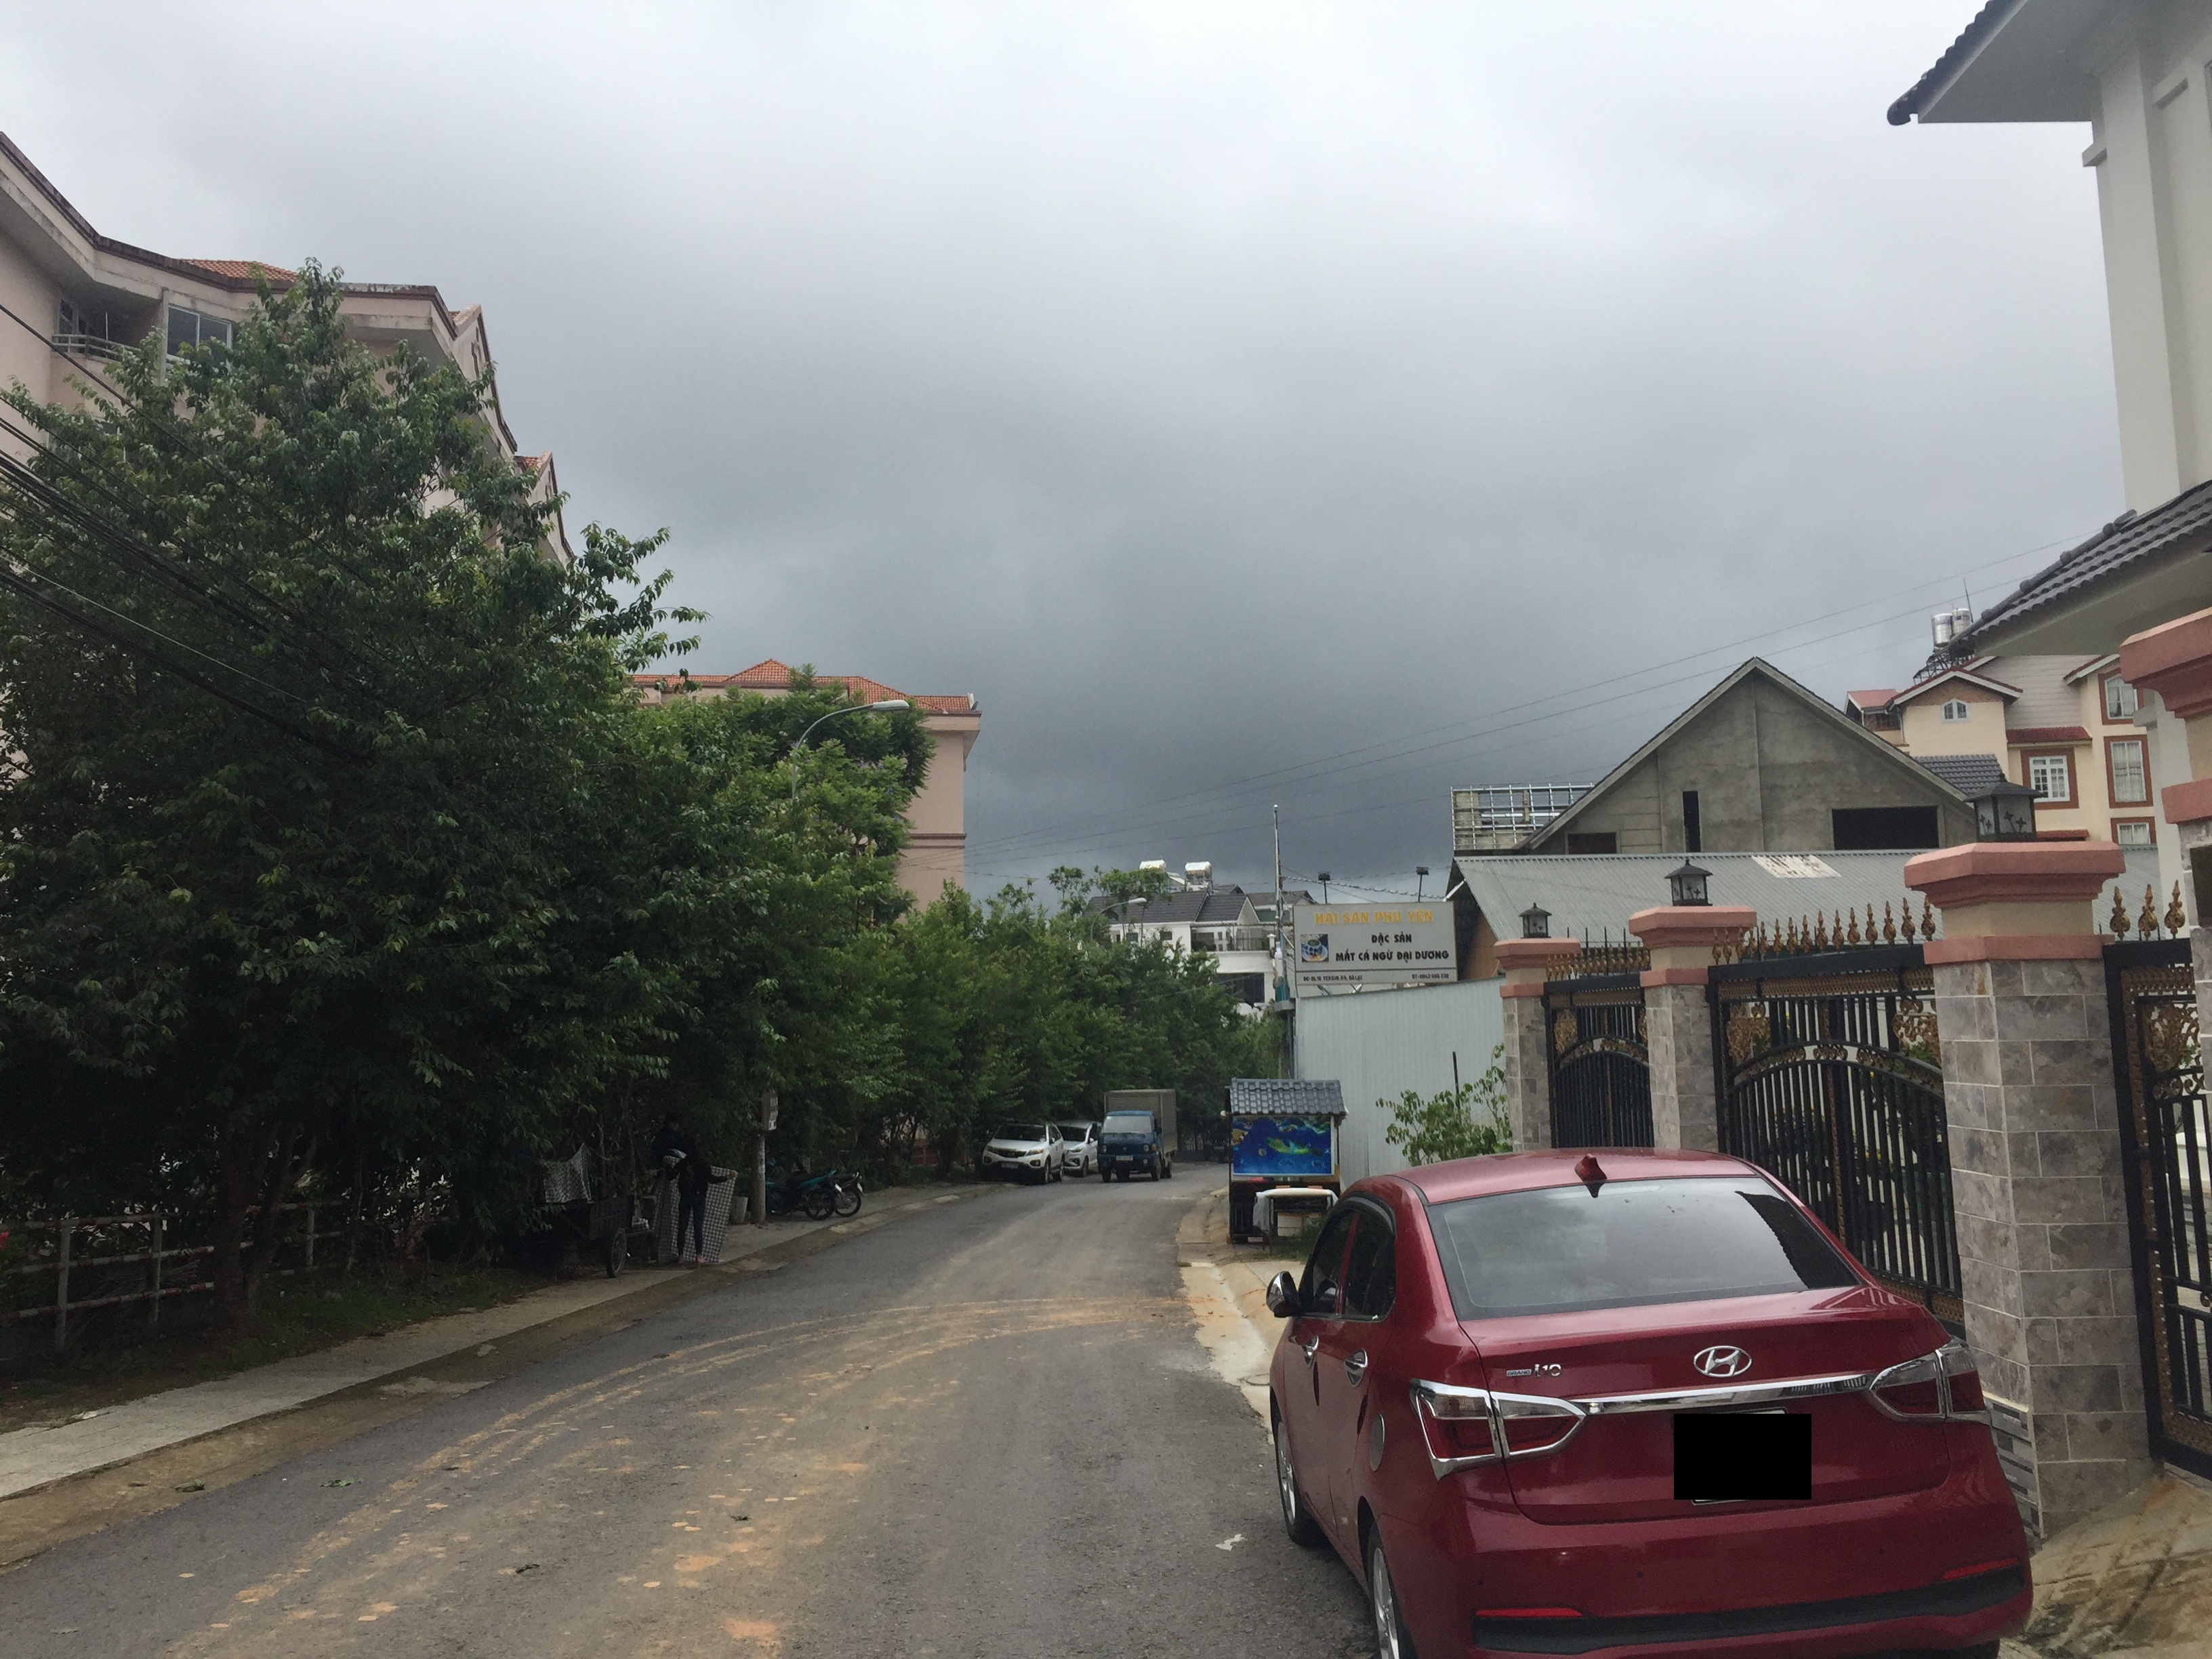hole: (514, 1563, 540, 1575), (728, 1514, 752, 1521), (441, 1466, 460, 1471), (653, 1354, 672, 1358)
